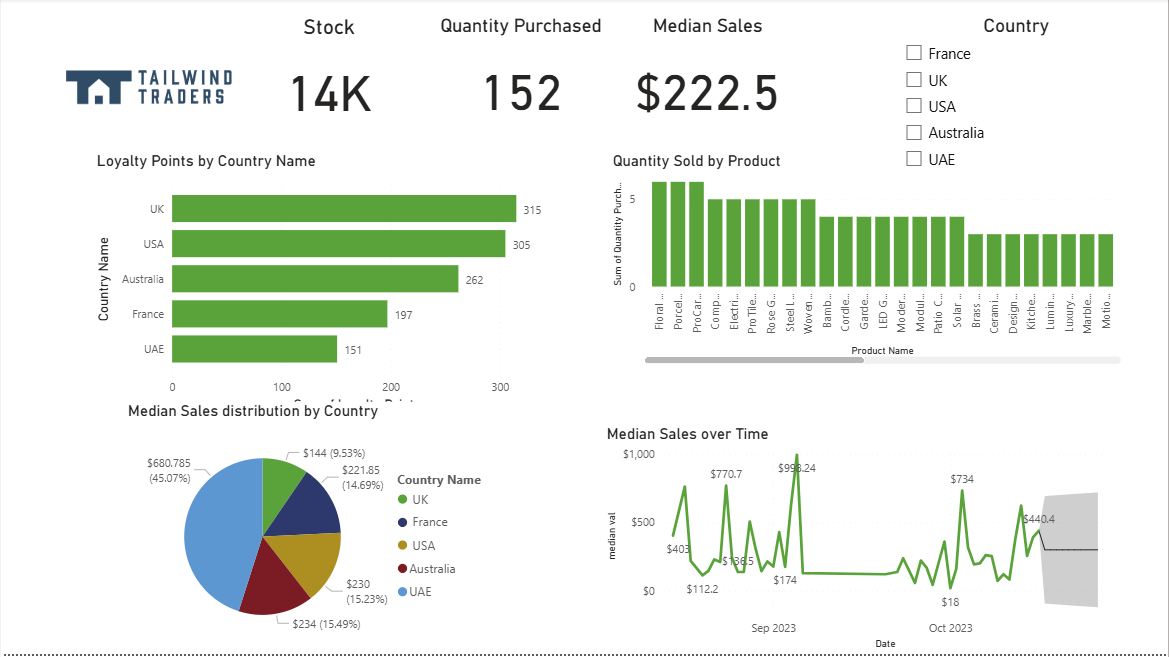

This screenshot's page, from the dashboard's own definition file:
{"tool":"powerbi","page":{"name":"Sales Overview","canvas":[1280,720],"ordinal":0},"visuals":[{"type":"card","title":"Median Sales","fields":{"Values":["Sales in USD.median val"]},"box":[665.7,17.4,217.5,134.9],"z":0},{"type":"clusteredBarChart","title":"Loyalty Points by Country Name","fields":{"Y":["Sum(Sales in USD. Loyalty Points)"],"Category":["Sales in USD.Country Name"]},"box":[79.8,152.3,509,290.1],"z":1000},{"type":"clusteredColumnChart","title":"Quantity Sold by Product","fields":{"Category":["Sales in USD.Product Name"],"Y":["Sum(Sales in USD.Quantity Purchased)"]},"box":[665.7,168.2,567.1,237.8],"z":2000},{"type":"pieChart","title":"Median Sales distribution by Country","fields":{"Y":["Sales in USD.median val"],"Category":["Sales in USD.Country Name"]},"box":[134.9,442.3,413.3,277],"z":3000},{"type":"lineChart","title":"Median Sales over Time","fields":{"Y":["Sales in USD.median val"],"Category":["CalendarTable.Date"]},"box":[659.9,467,572.9,252.3],"z":4000},{"type":"card","title":"Stock","fields":{"Values":["Sum(Sales in USD. Stock  )"]},"box":[134.9,17.4,190,134.9],"z":5000},{"type":"card","title":"Quantity Purchased","fields":{"Values":["Sum(Sales in USD.Quantity Purchased)"]},"box":[380,17.4,191.4,134.9],"z":6000},{"type":"slicer","title":"Country","fields":{"Values":["Sales in USD.Country Name"]},"box":[980.4,17.4,266.8,178.4],"z":7000}]}

Visuals, with their boxes in screenshot pixels (x1, y1, x2, y2), scaled from the page's 1280x720 canvas onto the 1169x657 screenshot:
"Median Sales" card: 608:16:807:139
"Loyalty Points by Country Name" clusteredBarChart: 73:139:538:404
"Quantity Sold by Product" clusteredColumnChart: 608:153:1126:370
"Median Sales distribution by Country" pieChart: 123:404:501:656
"Median Sales over Time" lineChart: 603:426:1126:656
"Stock" card: 123:16:297:139
"Quantity Purchased" card: 347:16:522:139
"Country" slicer: 895:16:1139:179
